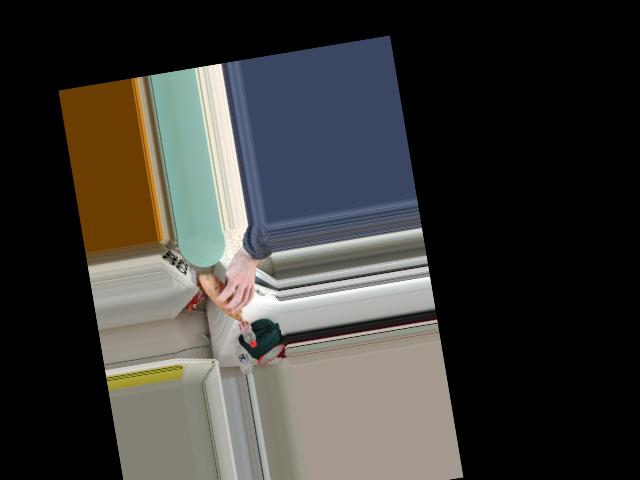sweet_potato: (200, 275, 250, 325)
